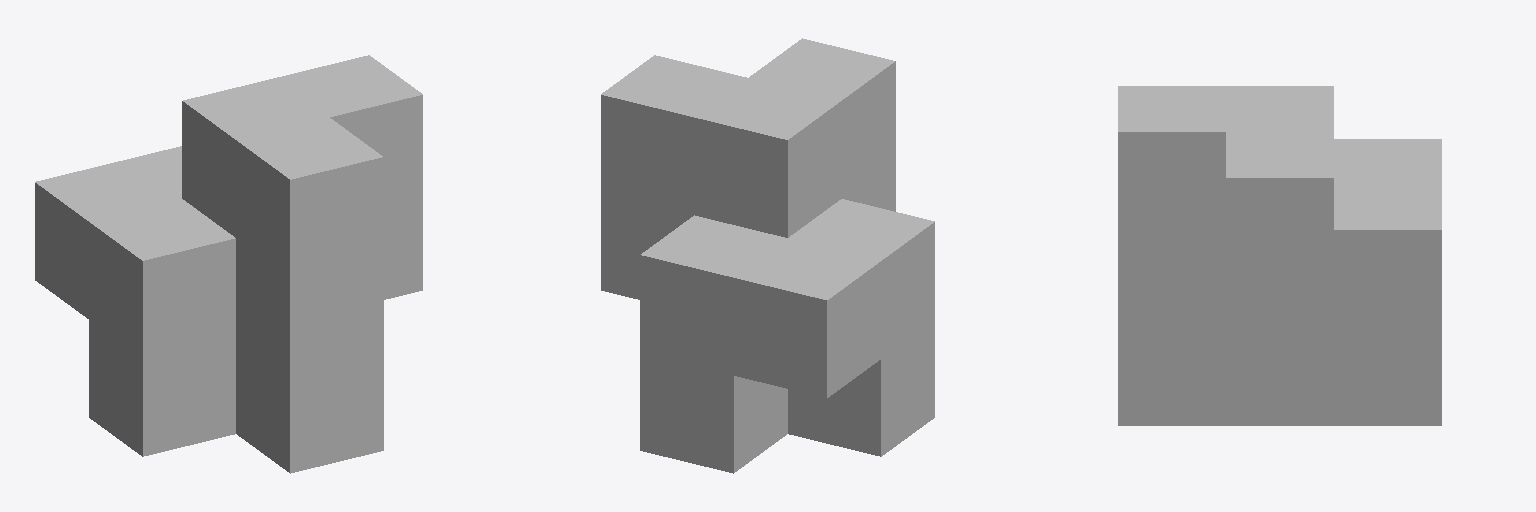
Rendered from Particle.obj.
The picture shows the model from 3 angles: view 1: azimuth 30°, elevation 25°; view 2: azimuth 150°, elevation 25°; view 3: azimuth 270°, elevation 25°; orthographic projection.
Visible parts, largest first — view 1: object 1; view 2: object 1; view 3: object 1.
Part boxes in pixels (left/top/right/bottom): object 1: left=35, top=55, right=422, bottom=473; object 1: left=601, top=38, right=934, bottom=473; object 1: left=1118, top=86, right=1441, bottom=425.
Bounding box in the file's own units: 0.3 × 0.3 × 0.3.